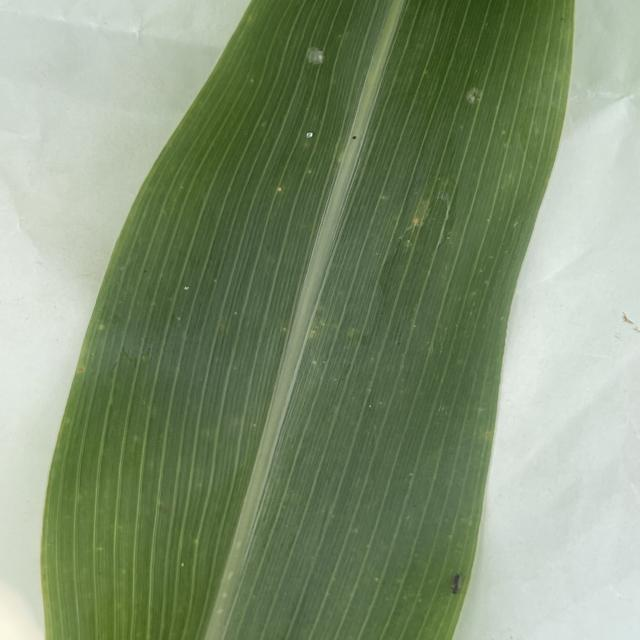millet_healthy: (36, 0, 580, 640)
